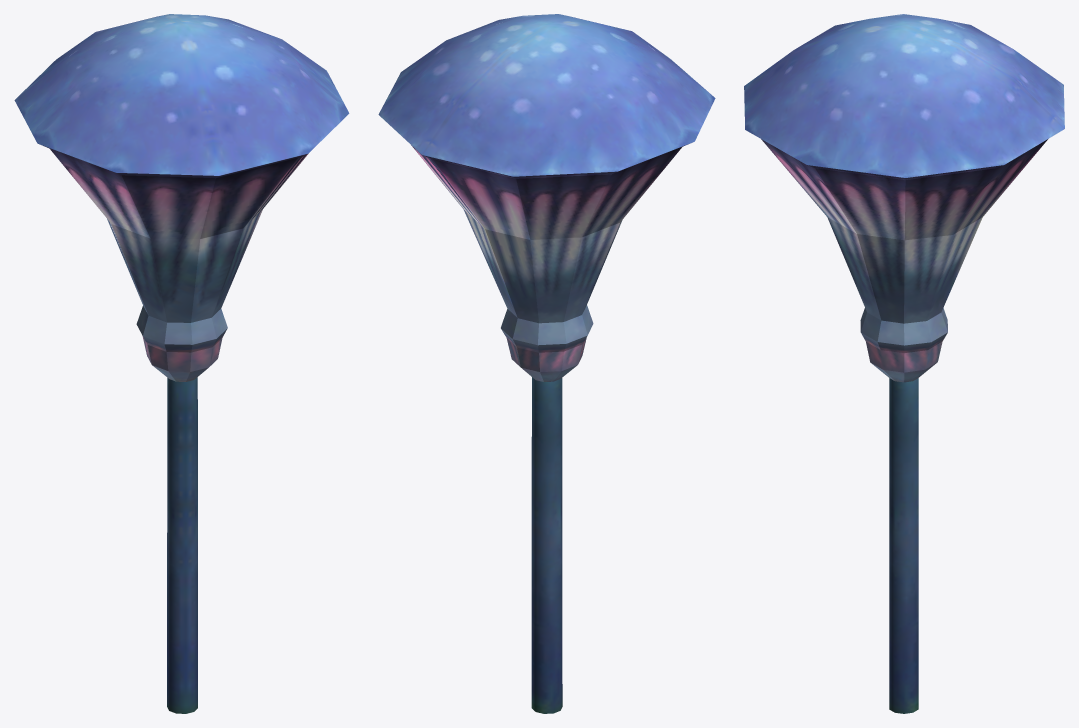
The model's file is gonghui_mogu_02 #48650123.fbx.
3 renders of one model, left to right at view 1: azimuth 30°, elevation 25°; view 2: azimuth 150°, elevation 25°; view 3: azimuth 270°, elevation 25°, orthographic.
Parts seen in each view (by area): view 1: gonghui_mogu_02; view 2: gonghui_mogu_02; view 3: gonghui_mogu_02.
Part boxes in pixels (left/top/right/bottom): gonghui_mogu_02: left=14, top=14, right=349, bottom=713; gonghui_mogu_02: left=378, top=14, right=715, bottom=713; gonghui_mogu_02: left=744, top=14, right=1064, bottom=713.
Size of the model in its own units: 0.6194 by 1.38 by 0.5906.
